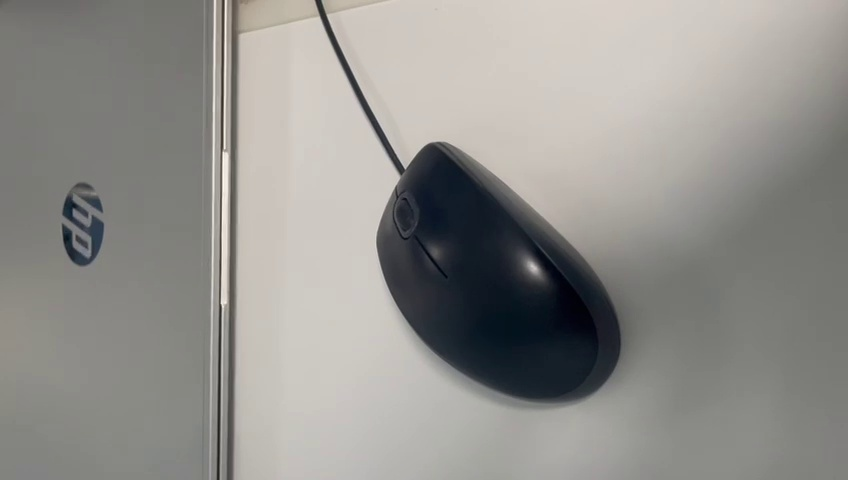objeto: (331, 103, 643, 415)
